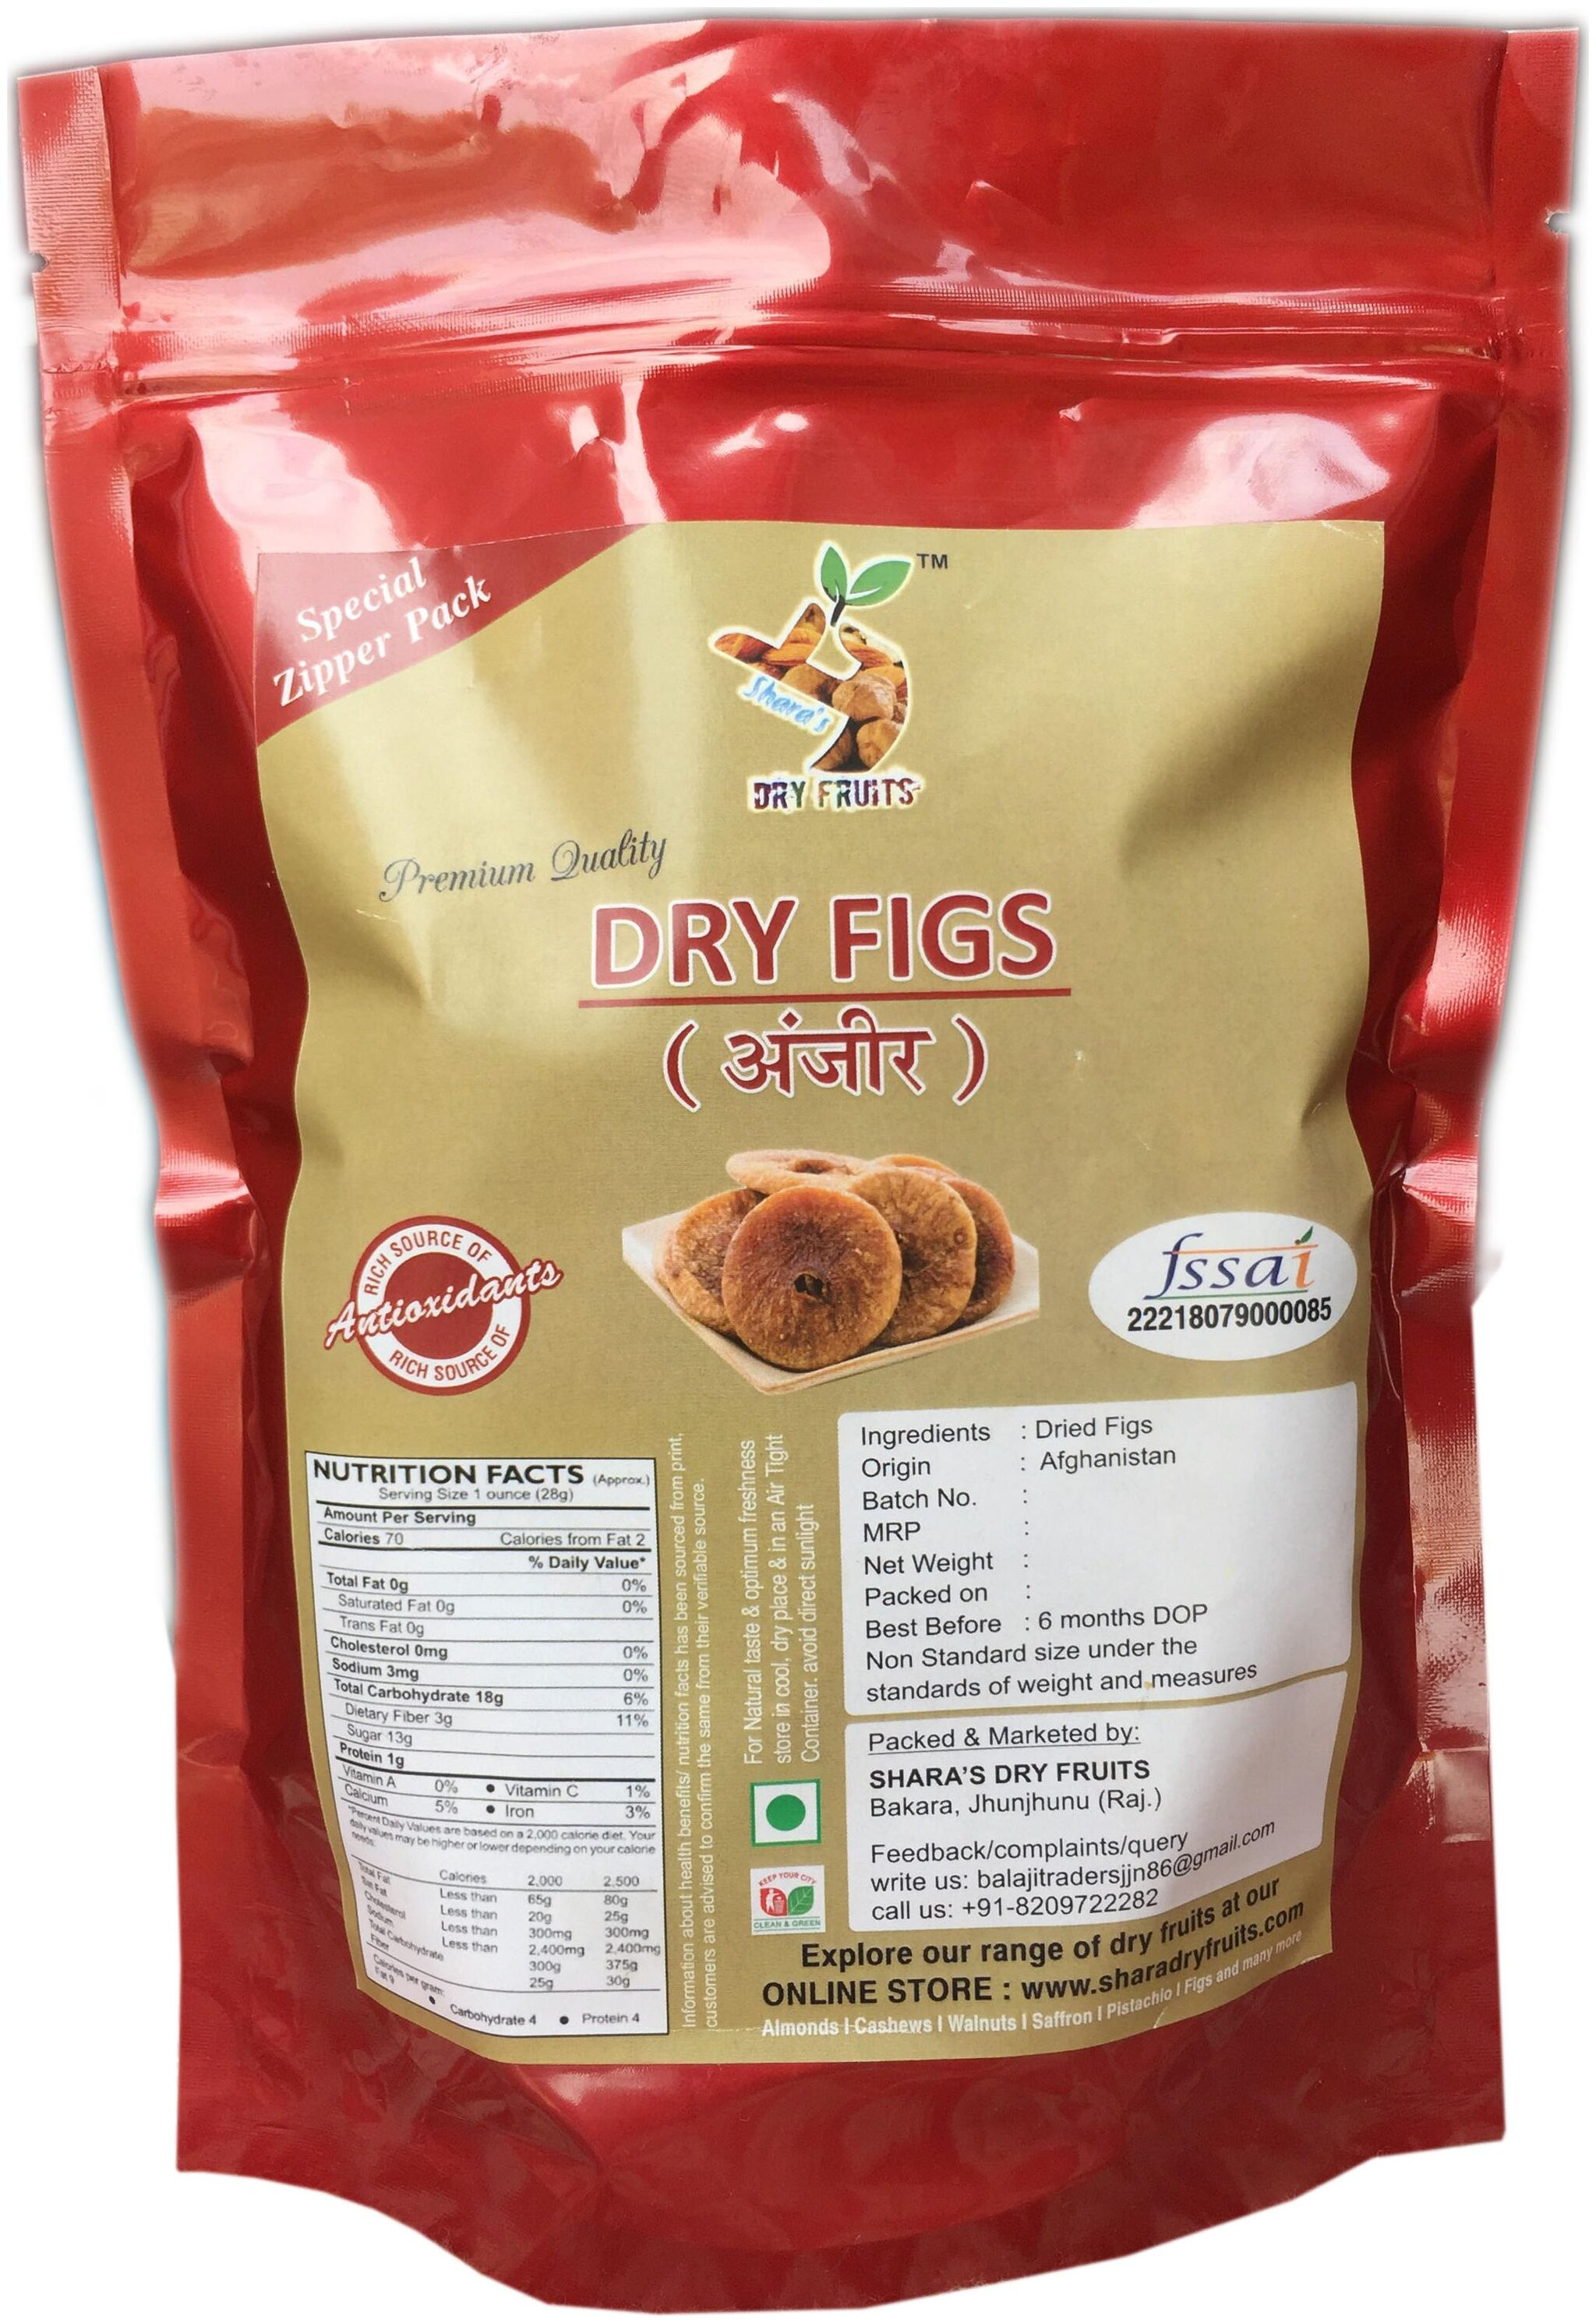fssai: (1144, 1223, 1329, 1297)
